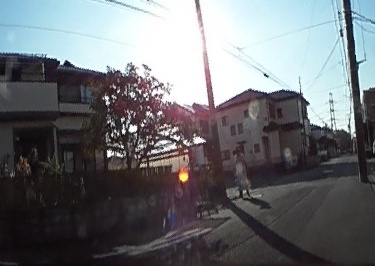person: (232, 146, 250, 198)
